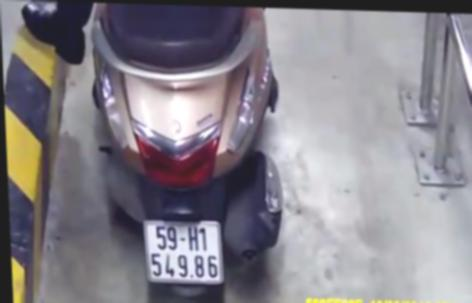License_Plate: (134, 215, 235, 289)
